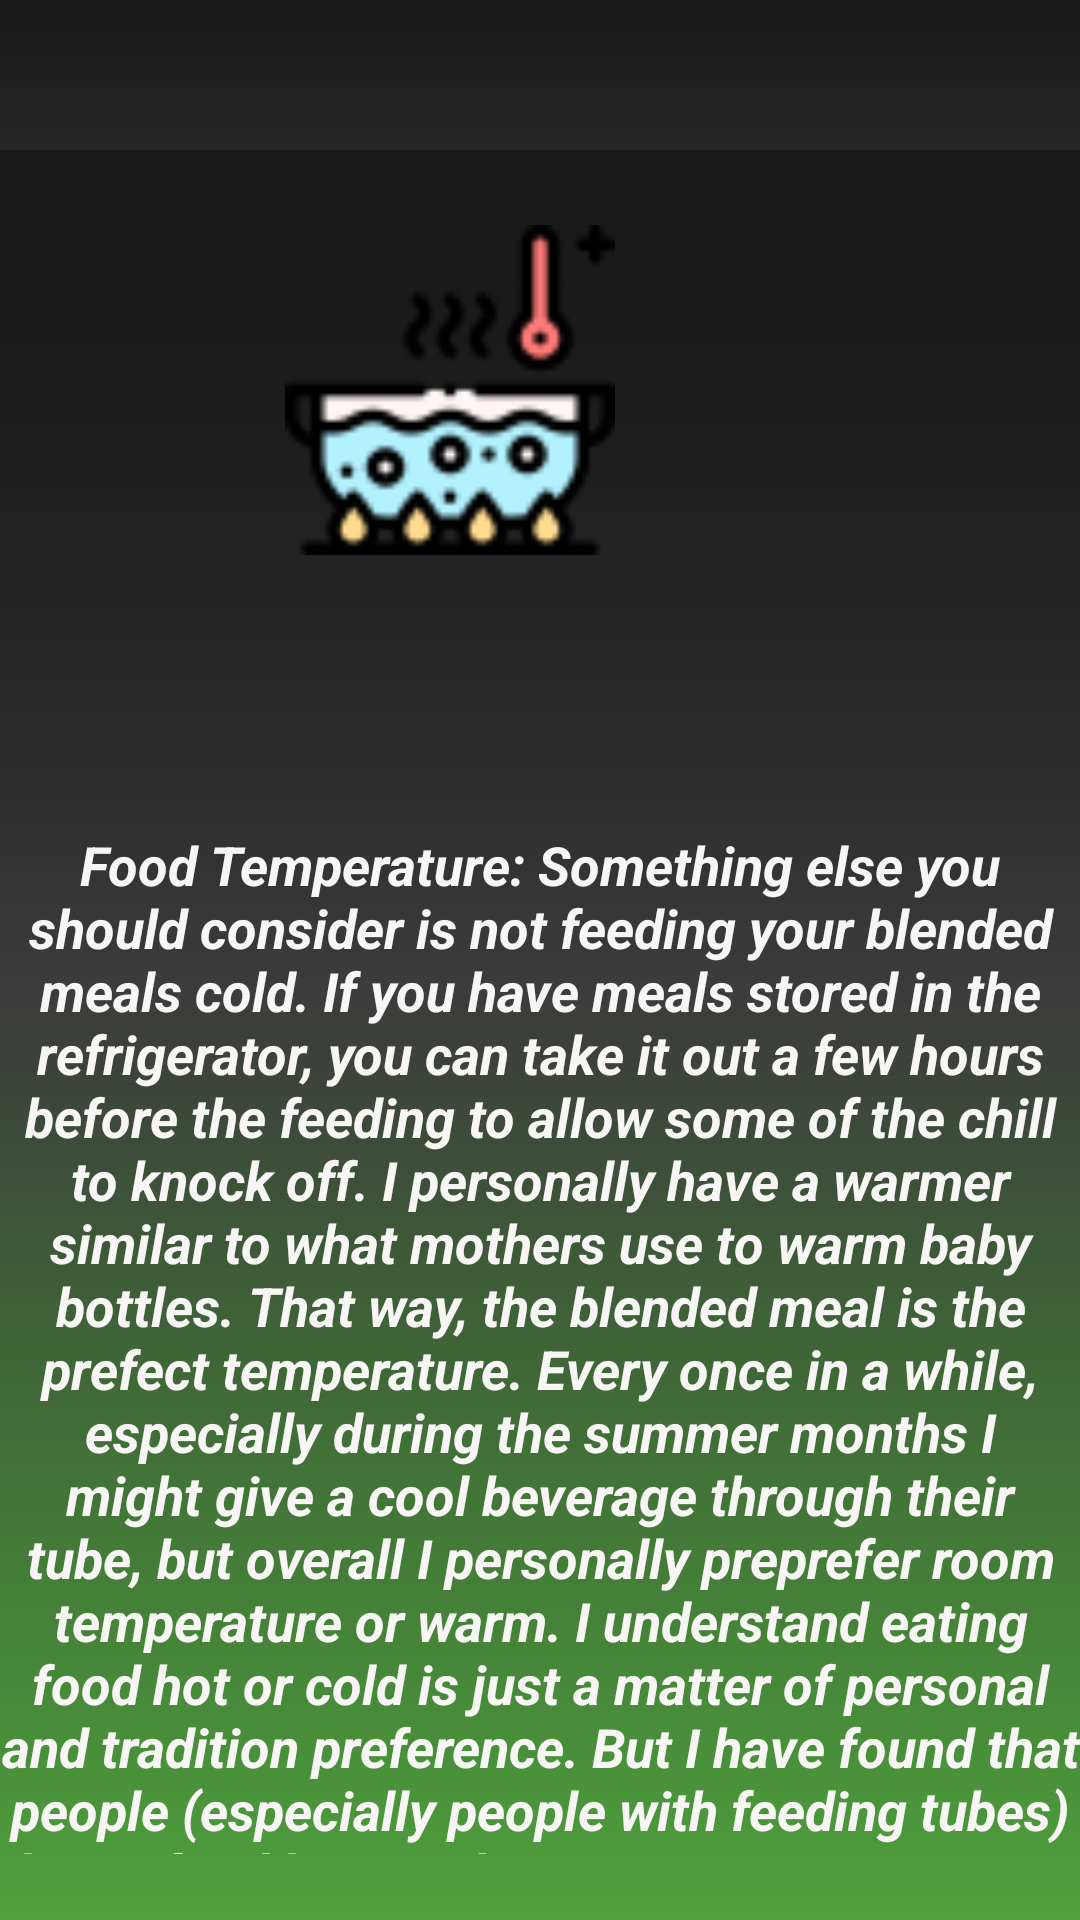

Screen size 1080x1920. Icon name, then its box in pixels as (x1, y1, x2, y2):
boil: (285, 225, 615, 555)
